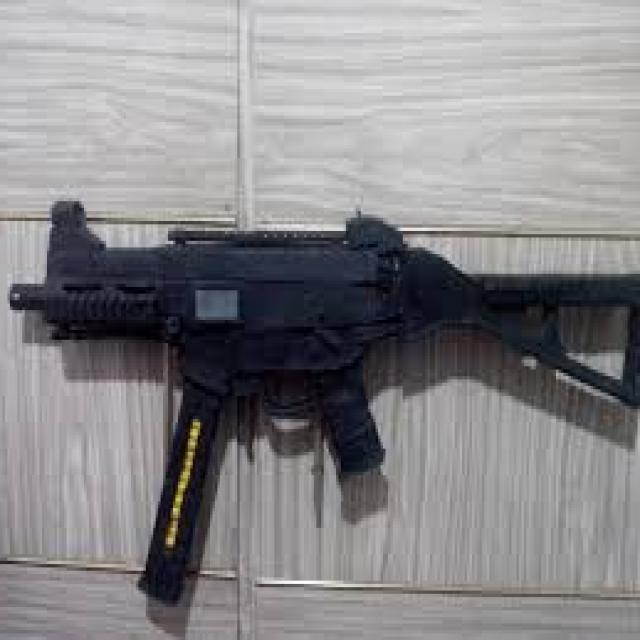Gun: (42, 173, 640, 629)
